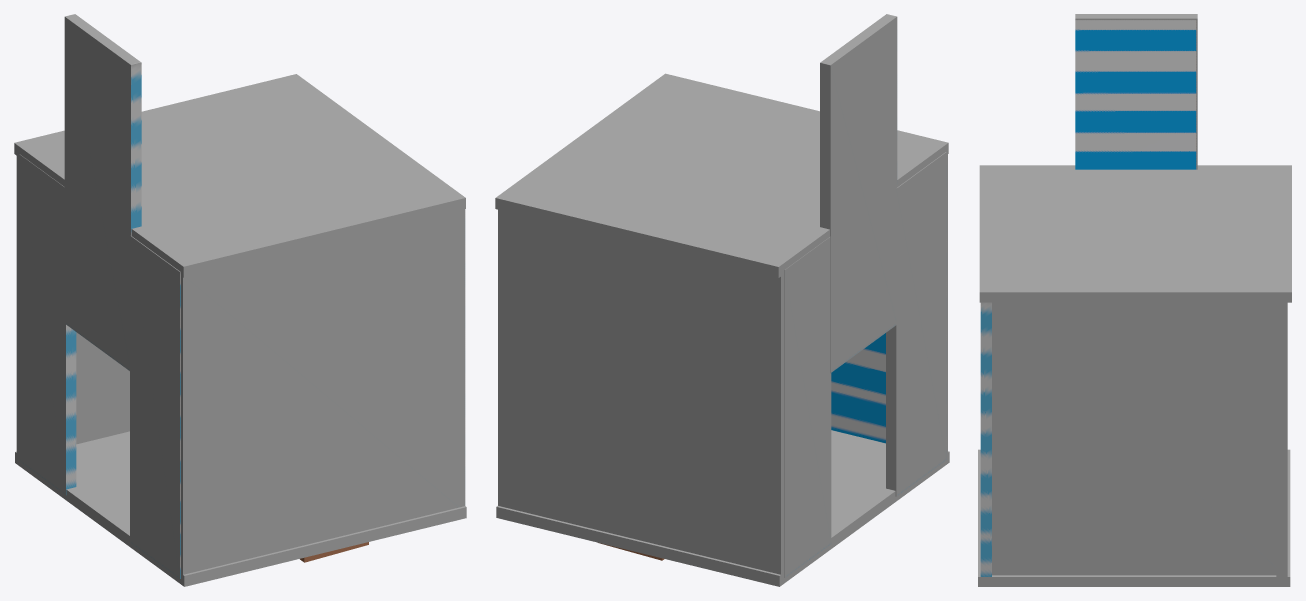
File: temple.glb
3 views of the same model, side by side, from view 1: azimuth 30°, elevation 25°; view 2: azimuth 150°, elevation 25°; view 3: azimuth 270°, elevation 25° (orthographic). The views are drawn at different scales.
Visible parts, largest first — view 1: mesh_id94, mesh_id203, mesh_id197, mesh_id185, mesh_id178, mesh_id45, mesh_id33, mesh_id51; view 2: mesh_id33, mesh_id203, mesh_id197, mesh_id178, mesh_id185, mesh_id51, mesh_id94, mesh_id45; view 3: mesh_id117, mesh_id203, mesh_id197, mesh_id45, mesh_id33, mesh_id94, mesh_id51.
Part boxes in pixels (bbox=[...]): mesh_id94: bbox=[180, 209, 465, 574]; mesh_id203: bbox=[14, 74, 465, 277]; mesh_id197: bbox=[64, 14, 141, 370]; mesh_id185: bbox=[19, 154, 76, 494]; mesh_id178: bbox=[130, 235, 180, 578]; mesh_id45: bbox=[15, 431, 465, 586]; mesh_id33: bbox=[16, 156, 129, 454]; mesh_id51: bbox=[15, 452, 466, 586]; mesh_id33: bbox=[498, 209, 784, 574]; mesh_id203: bbox=[495, 73, 948, 277]; mesh_id197: bbox=[820, 14, 897, 372]; mesh_id178: bbox=[886, 152, 946, 496]; mesh_id185: bbox=[784, 237, 831, 577]; mesh_id51: bbox=[496, 430, 949, 586]; mesh_id94: bbox=[831, 151, 947, 453]; mesh_id45: bbox=[779, 439, 949, 584]; mesh_id117: bbox=[992, 302, 1276, 575]; mesh_id203: bbox=[979, 165, 1291, 302]; mesh_id197: bbox=[1075, 14, 1197, 169]; mesh_id45: bbox=[978, 449, 1290, 586]; mesh_id33: bbox=[1276, 299, 1287, 581]; mesh_id94: bbox=[980, 302, 991, 576]; mesh_id51: bbox=[978, 450, 1290, 586].
Size of the model in its own units: 0.4543 by 0.7567 by 0.4732.
Materials: 5 (5 with a texture image).
